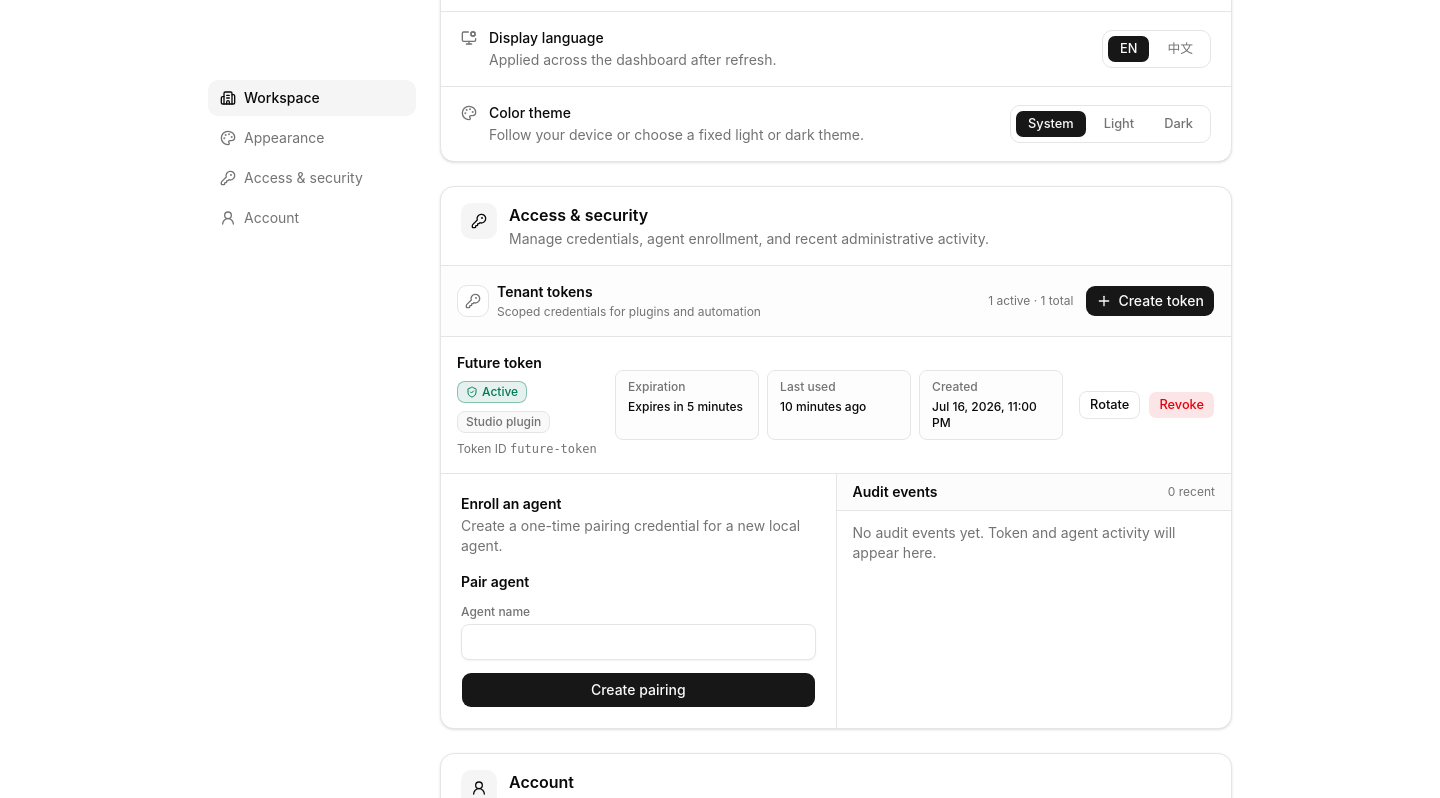
it: Dashboard views › preserves the current expiration for an explicit token rotation
The width and height of the screenshot is (1440, 798).
(page scrolled)
Click the button with aria-label "Rotate token Future token" at point(1110, 405), box [1079,391,1140,419]
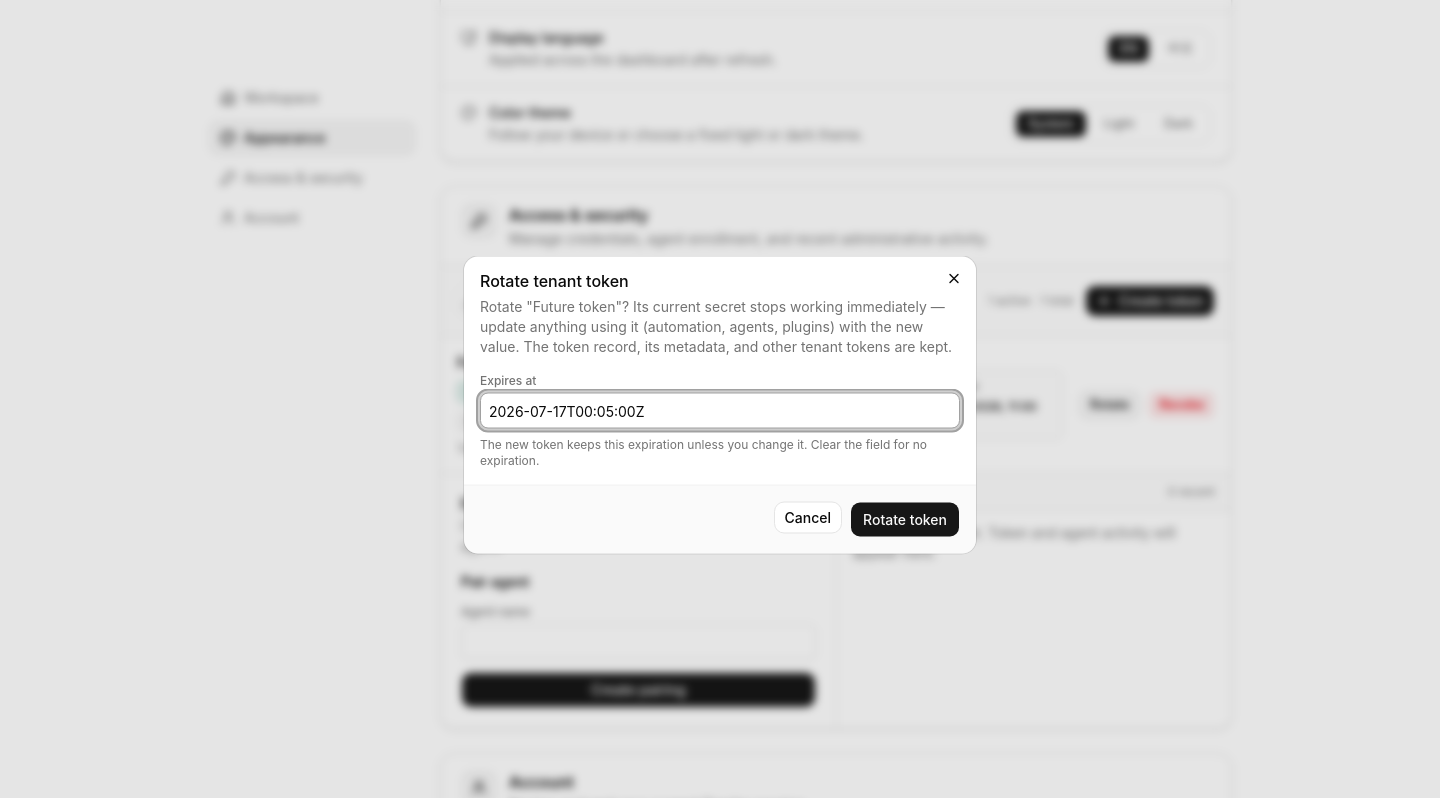
Now the field labelled "Expires at" holds "2026-07-17T00:05:00Z", box [480,392,960,428]
Now the text "keeps this expiration" is shown, box [480,436,927,468]
